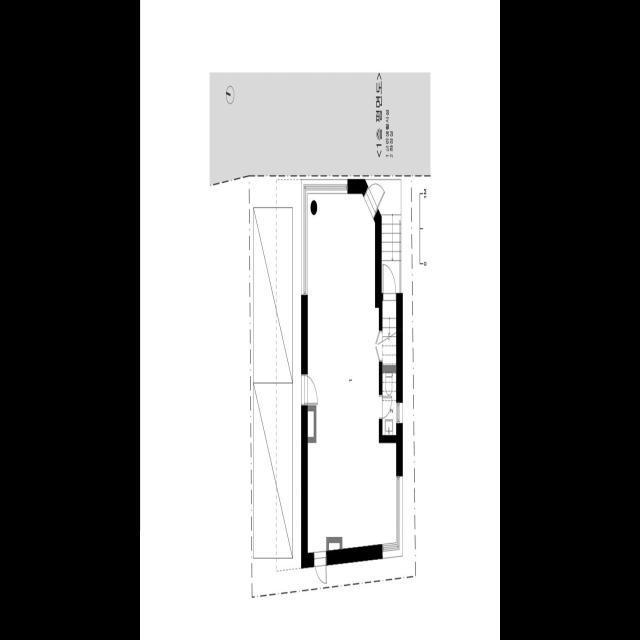background: (140, 0, 500, 640)
space_other: (308, 193, 396, 552), (308, 410, 314, 437), (329, 542, 340, 550)
space_staircase: (382, 214, 401, 336)
space_toilet: (382, 372, 396, 435)
